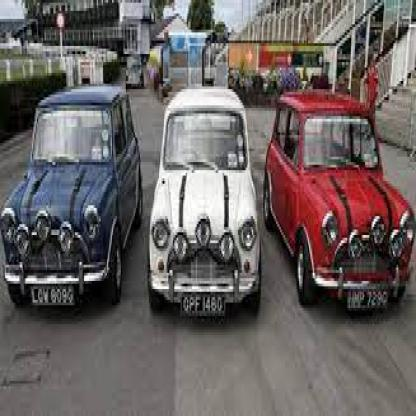car: (264, 89, 414, 308), (0, 89, 141, 308), (148, 87, 260, 314)
